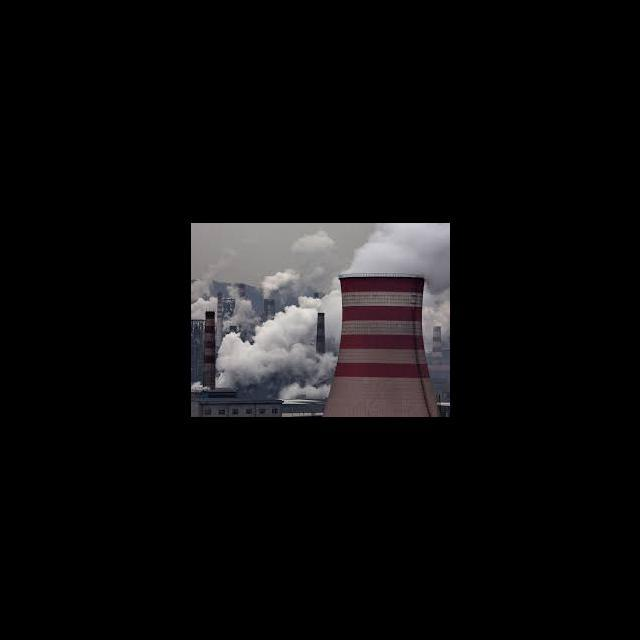Smoke: (358, 224, 448, 272), (259, 316, 309, 379), (217, 335, 254, 386), (262, 270, 296, 292), (282, 382, 328, 398), (326, 292, 339, 338), (288, 298, 316, 315), (192, 281, 204, 320)
